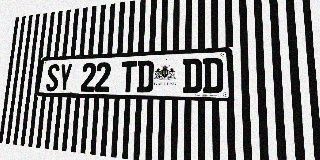2: (95, 62, 111, 92), (81, 62, 96, 92)
D: (203, 57, 223, 94), (183, 58, 202, 93), (136, 60, 154, 93)
S: (45, 64, 60, 91)
T: (120, 61, 137, 92)
Y: (58, 63, 73, 91)
